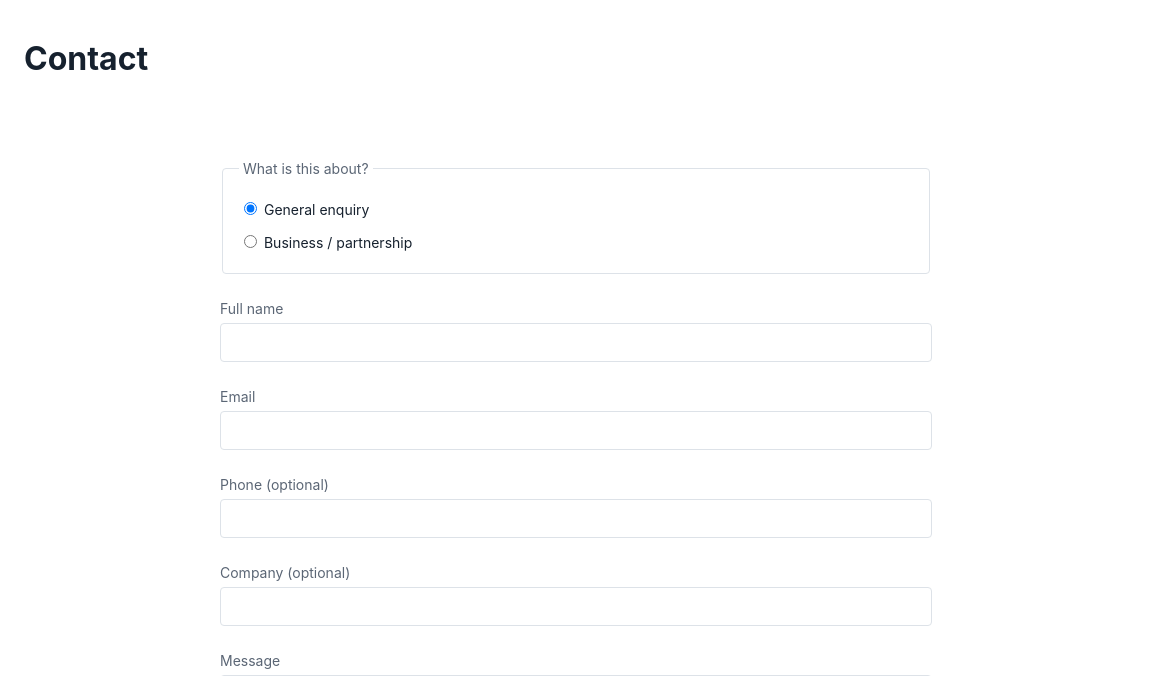
Test case: ContactPage › submits and shows the reference on success
This screenshot has width=1152, height=676.
Type "Jane Doe" into the field labelled "Full name". click: coordinates (576, 343)
box: [220,323,932,362]
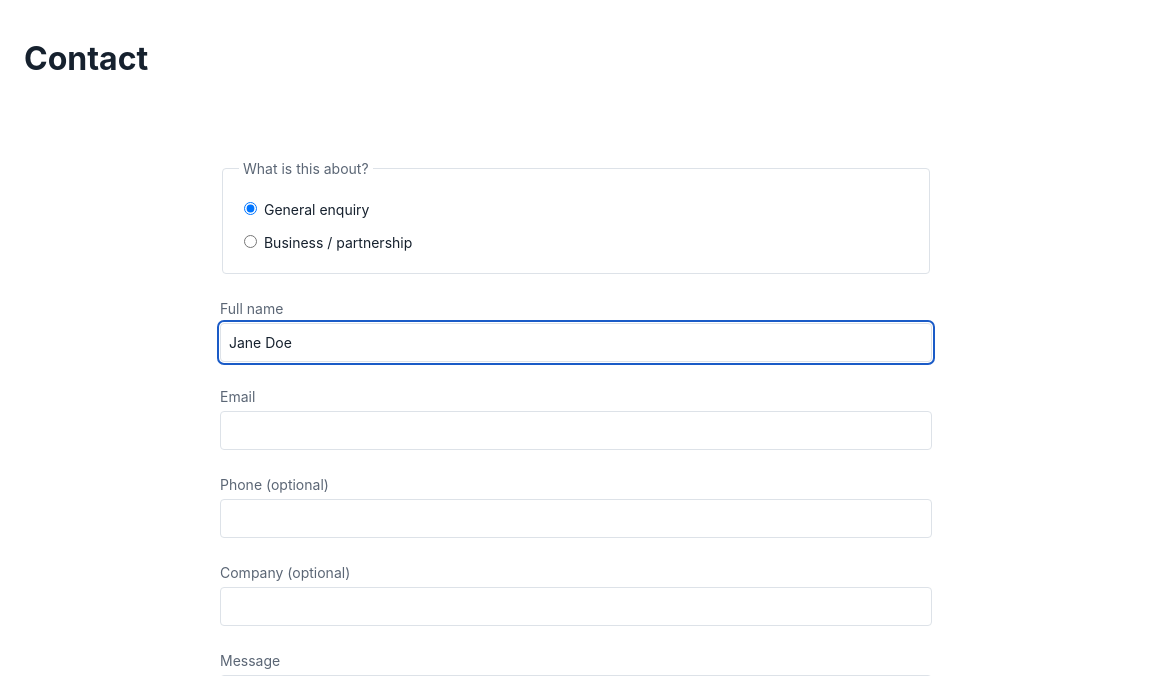
Type "jane@example.com" into the field labelled "Email". click: coordinates (576, 431)
box: [220,411,932,450]
(page scrolled)
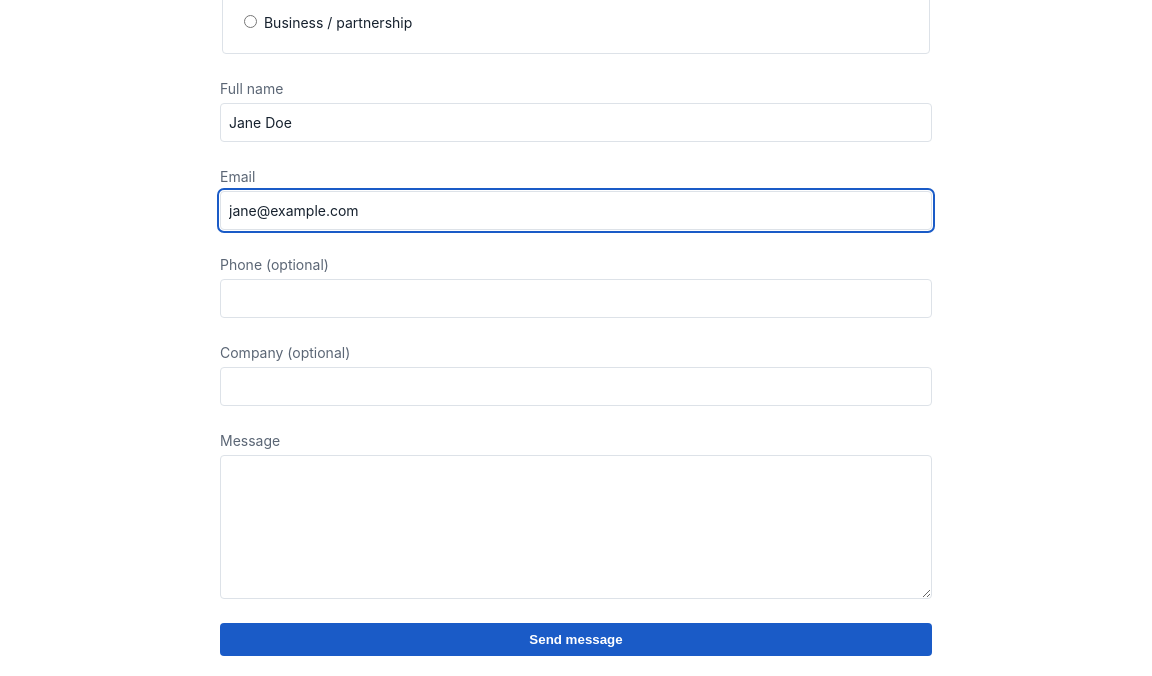
Type "Please call me." into the text box labelled "Message". click: coordinates (576, 527)
box: [220,455,932,599]
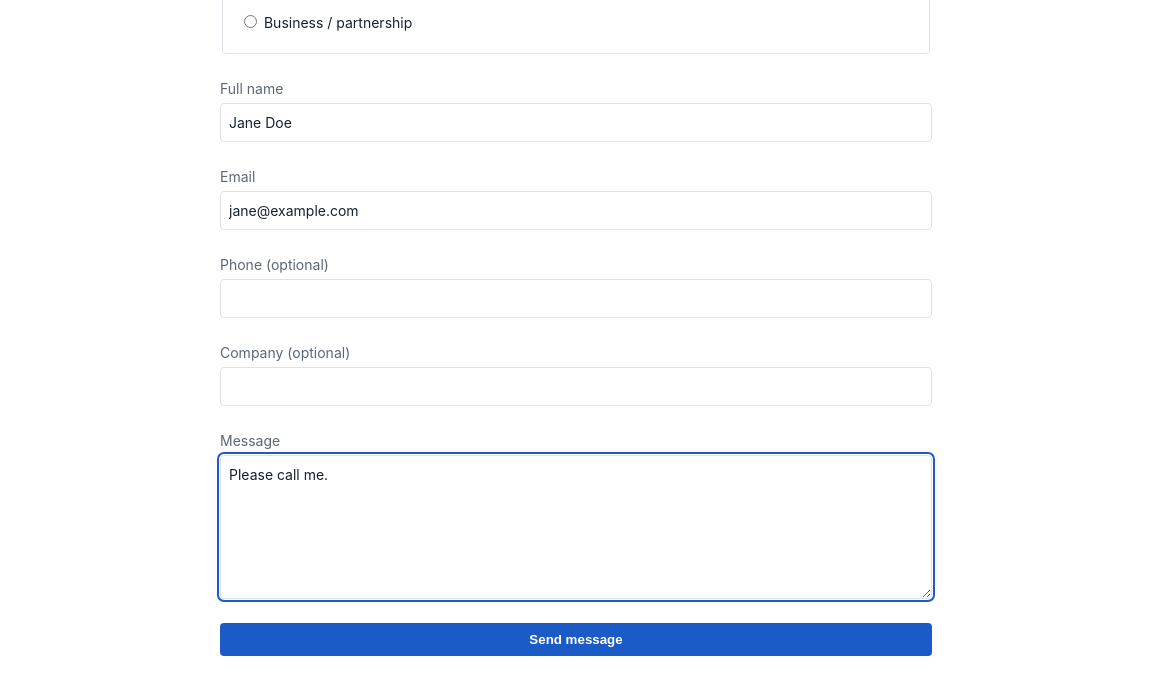
Click the radio button labelled "Business / partnership". click: coordinates (250, 22)
box: [244,15,257,28]
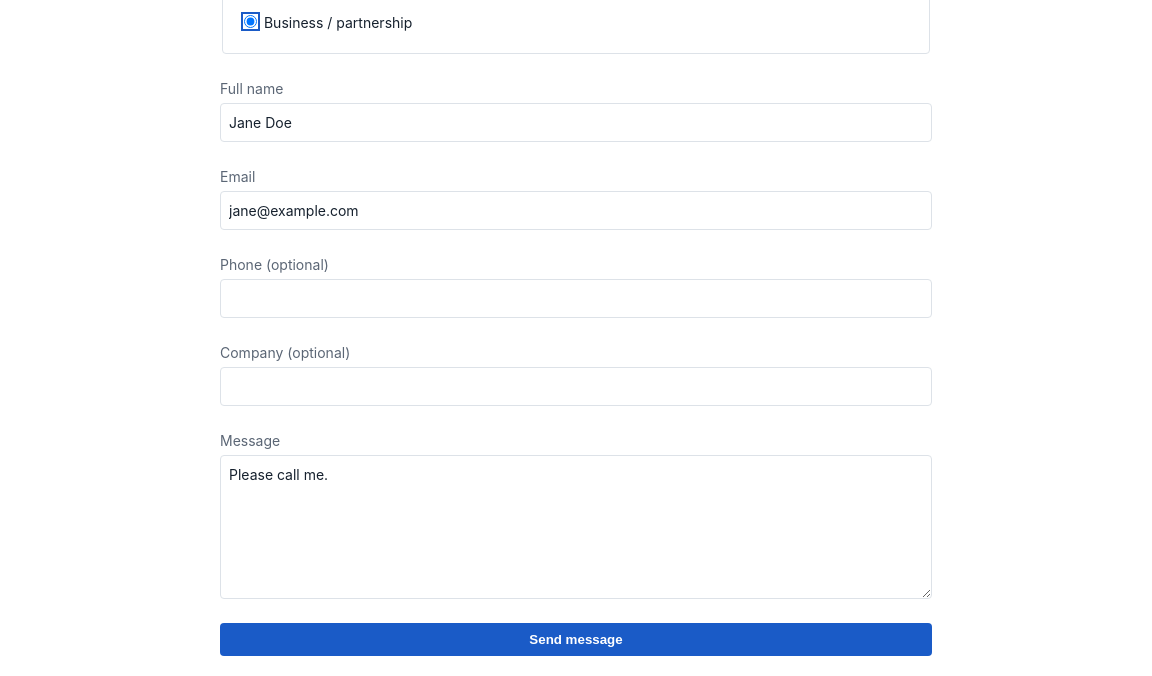
Click the button "Send message". click: coordinates (576, 640)
box: [220,623,932,656]
(page scrolled)
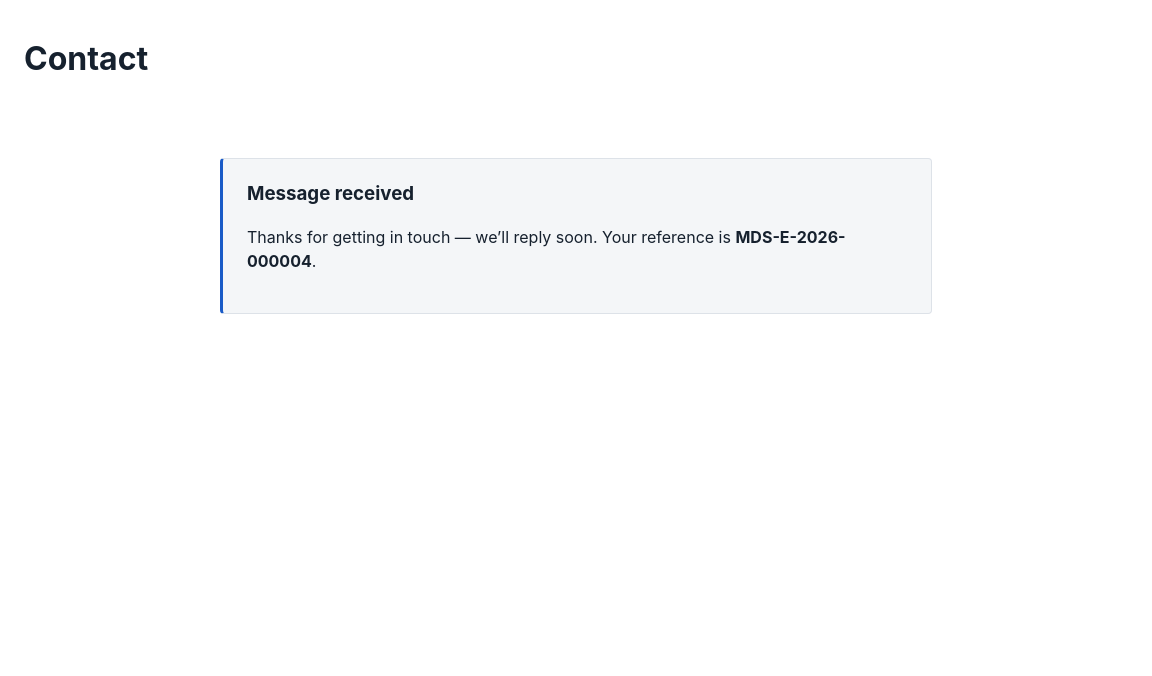
Expected: the heading "Message received" is shown, [247,182,414,205]
Expected: the text "MDS-E-2026-000004" is shown, [247,227,846,271]
